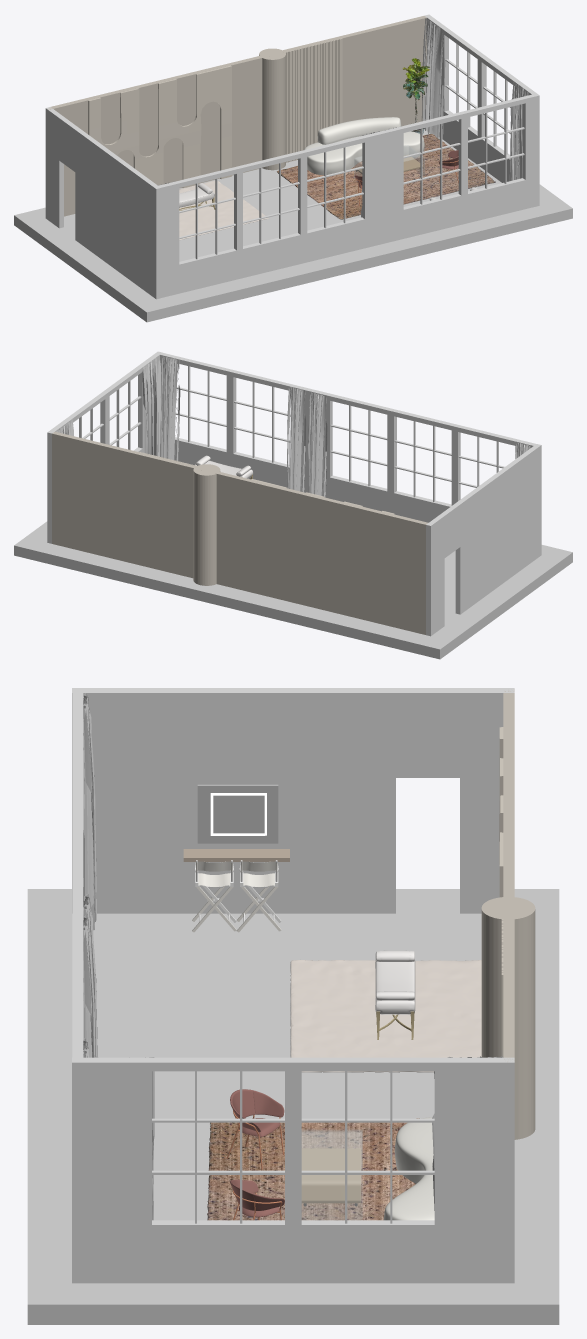
Rendered from solaris.glb.
3 renders of one model, top to bottom at view 1: azimuth 30°, elevation 25°; view 2: azimuth 150°, elevation 25°; view 3: azimuth 270°, elevation 25°, orthographic. The views are drawn at different scales.
Visible parts, largest first — view 1: Cube.002, Concrete Slab.002, Cube.001, Cube.003, Cube.119, Slats, Cube.004, model_tex_u1_v1_0, Sofa MRS collection by Roman Plyus_MRS Sofa_0, Cylinder.001, Beige Carpet, Furniture_i2kRP5jURzCzDDp31KGFLg.007 (+5 smaller); view 2: Cube.001, Concrete Slab.002, Cube.003, Cube.002, Cylinder.001, Cube.004, Furniture_i2kRP5jURzCzDDp31KGFLg.004, Furniture_i2kRP5jURzCzDDp31KGFLg.005, Furniture_i2kRP5jURzCzDDp31KGFLg.003, Furniture_i2kRP5jURzCzDDp31KGFLg.006, Box1578966262_velvet 2 s f_0.001; view 3: Concrete Slab.002, Cube.003, Cube.004, Beige Carpet, model_tex_u1_v1_0, Cylinder.001, table.002, 81221+Mirror+Tube+LED_NC-1qBzfQ4C7Tf3685te7A.001, Cube.002, Cube.001, Sofa MRS collection by Roman Plyus_MRS Sofa_0, table.003 (+8 smaller).
Boxes of the visible parts, x1,y1,x2,y2 form: Cube.002: (154,93,538,297); Concrete Slab.002: (14,129,572,322); Cube.001: (48,15,426,216); Cube.003: (45,107,160,299); Cube.119: (88,65,231,187); Slats: (285,38,342,162); Cube.004: (425,14,539,206); model_tex_u1_v1_0: (277,134,484,219); Sofa MRS collection by Roman Plyus_MRS Sofa_0: (304,117,424,175); Cylinder.001: (259,48,285,170); Beige Carpet: (179,180,268,240); Furniture_i2kRP5jURzCzDDp31KGFLg.007: (421,18,445,139); Cube.001: (52,431,428,634); Concrete Slab.002: (14,521,572,659); Cube.003: (426,444,541,636); Cube.002: (155,351,540,522); Cylinder.001: (193,464,220,585); Cube.004: (47,351,160,543); Furniture_i2kRP5jURzCzDDp31KGFLg.004: (286,387,306,492); Furniture_i2kRP5jURzCzDDp31KGFLg.005: (160,356,180,461); Furniture_i2kRP5jURzCzDDp31KGFLg.003: (308,392,327,497); Furniture_i2kRP5jURzCzDDp31KGFLg.006: (142,358,162,456); Box1578966262_velvet 2 s f_0.001: (195,455,253,478); Concrete Slab.002: (27,889,559,1324); Cube.003: (72,688,514,913); Cube.004: (72,1057,514,1283); Beige Carpet: (290,960,481,1072); model_tex_u1_v1_0: (208,1118,419,1220); Cylinder.001: (481,897,535,1139); table.002: (301,1130,362,1219); 81221+Mirror+Tube+LED_NC-1qBzfQ4C7Tf3685te7A.001: (197,784,278,843); Cube.002: (72,688,83,1062); Cube.001: (503,689,514,1061); Sofa MRS collection by Roman Plyus_MRS Sofa_0: (383,1117,434,1220); table.003: (301,1148,360,1203).
Bounding box in the file's own units: 13.55 × 3.66 × 7.32.
24 materials, 3 textured.
